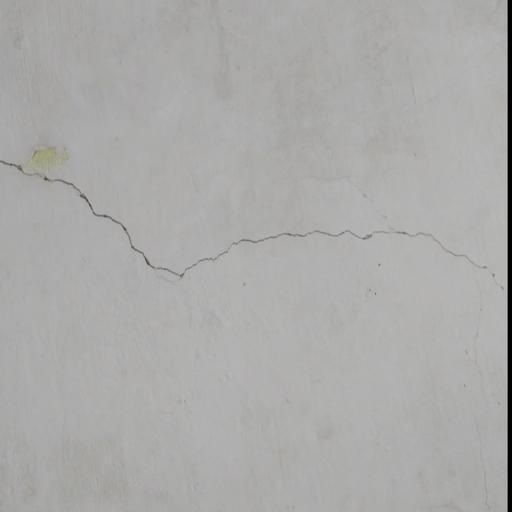minor_crack: (0, 141, 512, 304)
